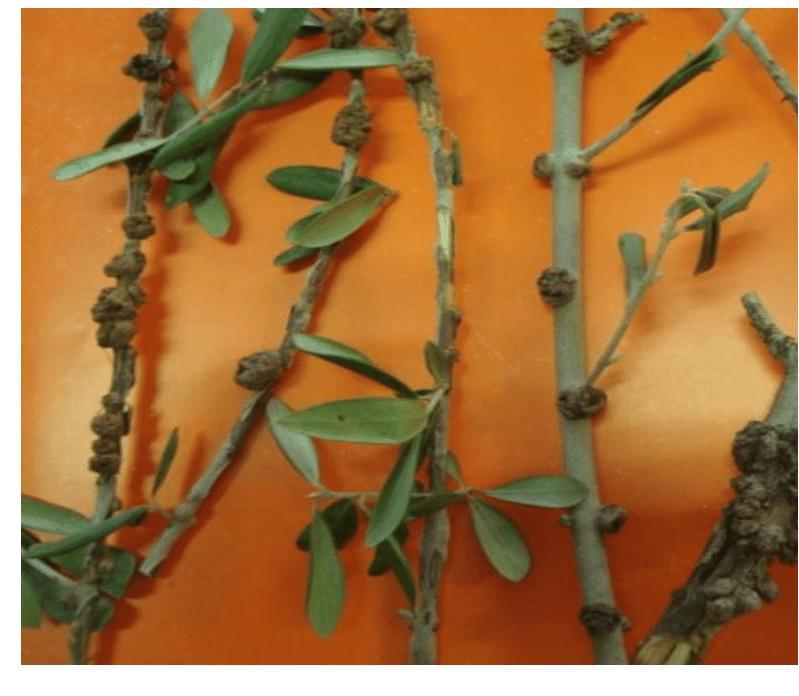Tuberculosis: (694, 415, 797, 626), (89, 249, 156, 354), (88, 390, 133, 479), (234, 341, 289, 399), (325, 97, 378, 155), (533, 264, 580, 316), (540, 17, 589, 66), (554, 383, 610, 424), (574, 600, 625, 642), (322, 11, 368, 53), (120, 51, 170, 88), (393, 53, 442, 83), (120, 207, 159, 243), (369, 9, 412, 40), (136, 10, 177, 42)
